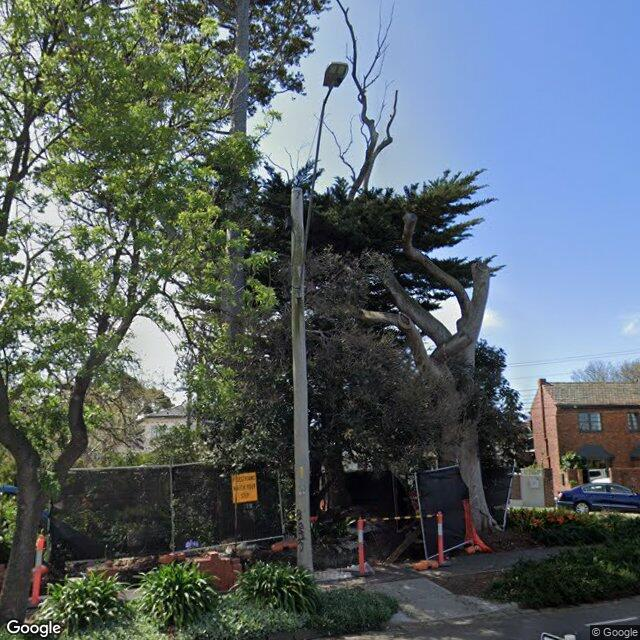steel-pole: (291, 187, 314, 577)
streetlight: (296, 62, 349, 303)
